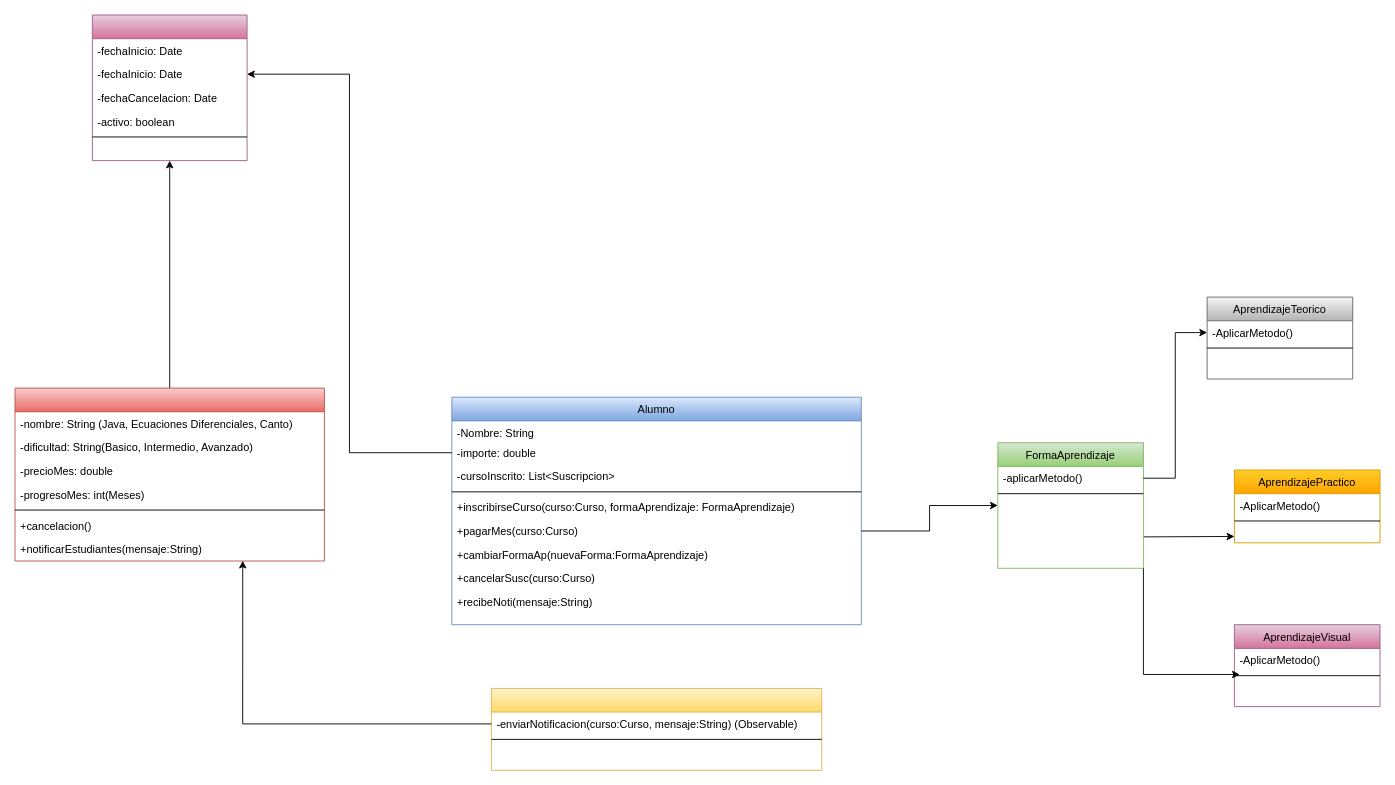
Some shapes in this 1395 by 785 pixel diagram are drawn without their labels. Here are the shapes that lost their labels. From the top down, the box of each, then its label:
(91, 14, 247, 161): Suscripcion
(14, 387, 324, 561): Curso
(490, 688, 822, 770): Profesor
